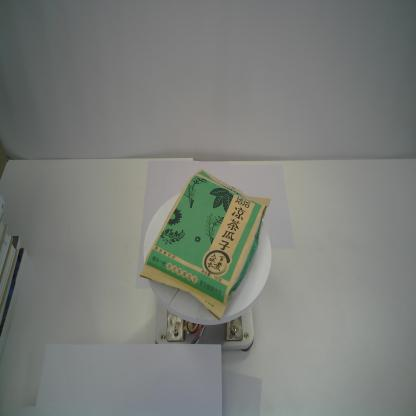Dried Food: (138, 166, 272, 323)
